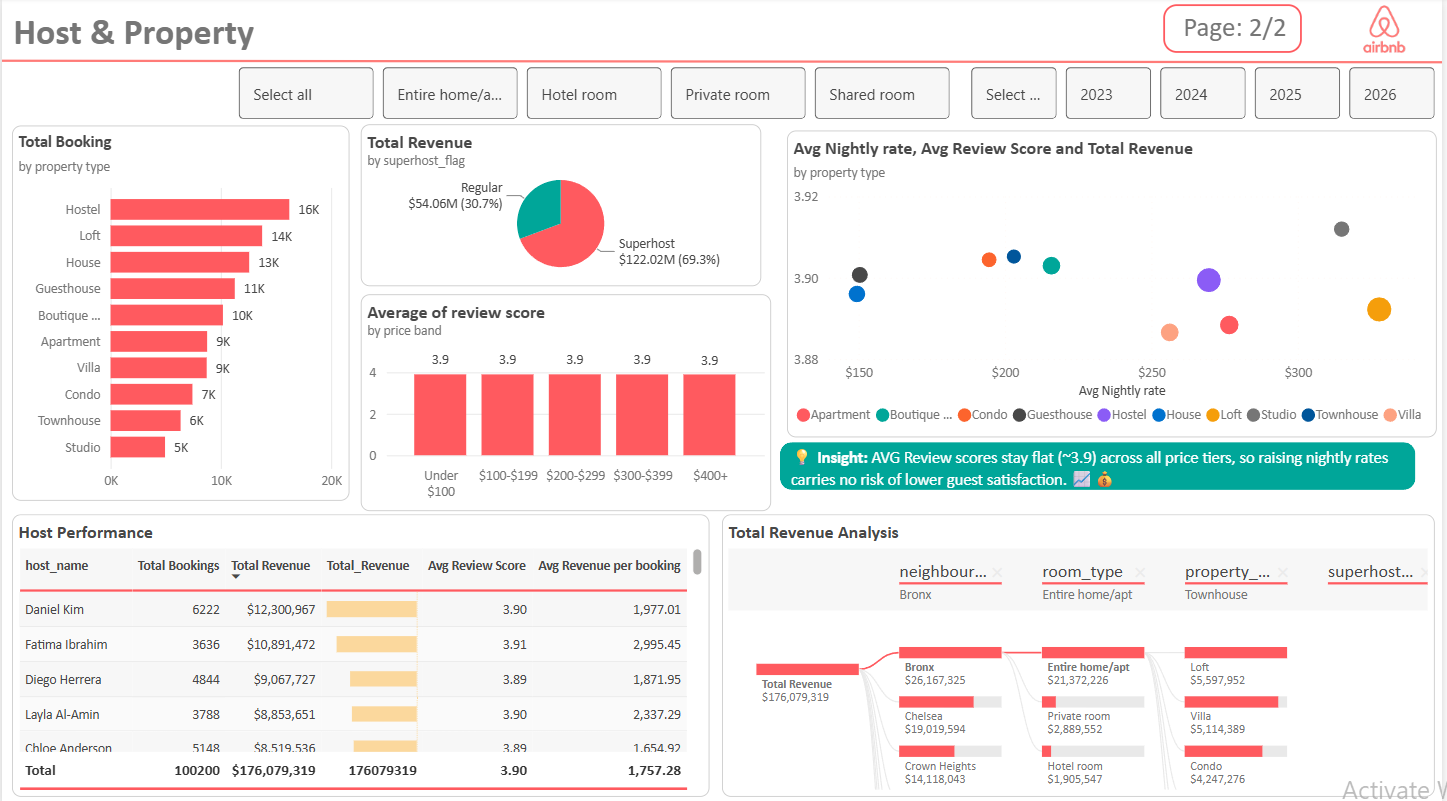

Layout of this report page (visuals, bound fields, positions):
{"tool":"powerbi","page":{"name":"Host & Property","canvas":[1280,720],"ordinal":1},"visuals":[{"type":"clusteredBarChart","title":"Total Booking","fields":{"Category":["dim_property.property_type"],"Y":["Measure table.Total Bookings"]},"box":[8.8,113.8,300,333.8],"z":0},{"type":"pieChart","fields":{"Y":["Measure table.Total Revenue"],"Category":["dim_host.superhost_flag"]},"box":[318.8,112.5,356.2,143.8],"z":1000},{"type":"scatterChart","title":"Avg Nightly rate, Avg Review Score and Total Revenue ","fields":{"X":["Measure table.Avg Nightly rate"],"Y":["Measure table.Avg Review Score"],"Series":["dim_property.property_type"],"Size":["Measure table.Total Revenue"]},"box":[697.5,117.5,577.5,272.5],"z":2000},{"type":"tableEx","title":"Host Performance","fields":{"Values":["dim_host.host_name","Measure table.Total Bookings","Measure table.Total Revenue","Measure table.Totaal_Revenue","Measure table.Avg Review Score","Measure table.Avg Revenue per booking"]},"box":[8.8,458.8,620,251.2],"z":3000},{"type":"decompositionTreeVisual","title":"Total Revenue Analysis","fields":{"Analyze":["Measure table.Total Revenue"],"ExplainBy":["dim_location.neighbourhood","dim_property.room_type","dim_property.property_type","dim_host.superhost_flag"]},"box":[640,458.8,633.8,251.2],"z":4000},{"type":"textbox","box":[0,0,300,61.2],"z":5000},{"type":"advancedSlicerVisual","fields":{"Values":["dim_property.room_type"]},"box":[205,56.2,643.8,56.2],"z":6000},{"type":"advancedSlicerVisual","fields":{"Values":["dim_date.year"]},"box":[856.2,56.2,423.8,56.2],"z":7000},{"type":"clusteredColumnChart","title":"Average of review score ","fields":{"Y":["Avg(fact_bookings.review_score)"],"Category":["fact_bookings.Price Band"]},"box":[318.8,263.8,365,192.5],"z":8000},{"type":"shape","box":[686.2,390,575,52.5],"z":8001},{"type":"textbox","box":[691.2,386.2,570,61.2],"z":8002},{"type":"shape","box":[1032.7,6,123.1,43.4],"z":8003},{"type":"textbox","box":[1040,0,132.7,56.7],"z":8004}]}

Visuals, with their boxes in screenshot pixels (x1, y1, x2, y2), scaled from the page's 1280x720 canvas onto the 1447x801 screenshot:
"Total Booking" clusteredBarChart: [left=10, top=127, right=349, bottom=498]
pieChart - Measure table.Total Revenue x dim_host.superhost_flag: [left=360, top=125, right=763, bottom=285]
"Avg Nightly rate, Avg Review Score and Total Revenue " scatterChart: [left=789, top=131, right=1441, bottom=434]
"Host Performance" tableEx: [left=10, top=510, right=711, bottom=790]
"Total Revenue Analysis" decompositionTreeVisual: [left=724, top=510, right=1440, bottom=790]
textbox: [left=0, top=0, right=339, bottom=68]
advancedSlicerVisual - dim_property.room_type: [left=232, top=63, right=960, bottom=125]
advancedSlicerVisual - dim_date.year: [left=968, top=63, right=1446, bottom=125]
"Average of review score " clusteredColumnChart: [left=360, top=293, right=773, bottom=508]
shape: [left=776, top=434, right=1426, bottom=492]
textbox: [left=781, top=430, right=1426, bottom=498]
shape: [left=1167, top=7, right=1307, bottom=55]
textbox: [left=1176, top=0, right=1326, bottom=63]
